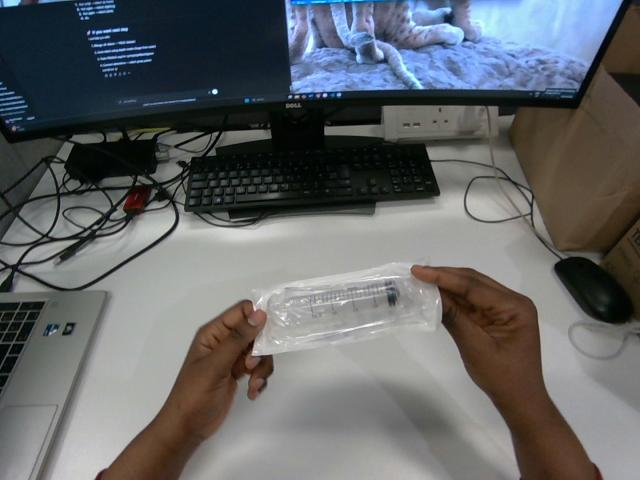syringe: (253, 263, 441, 355)
